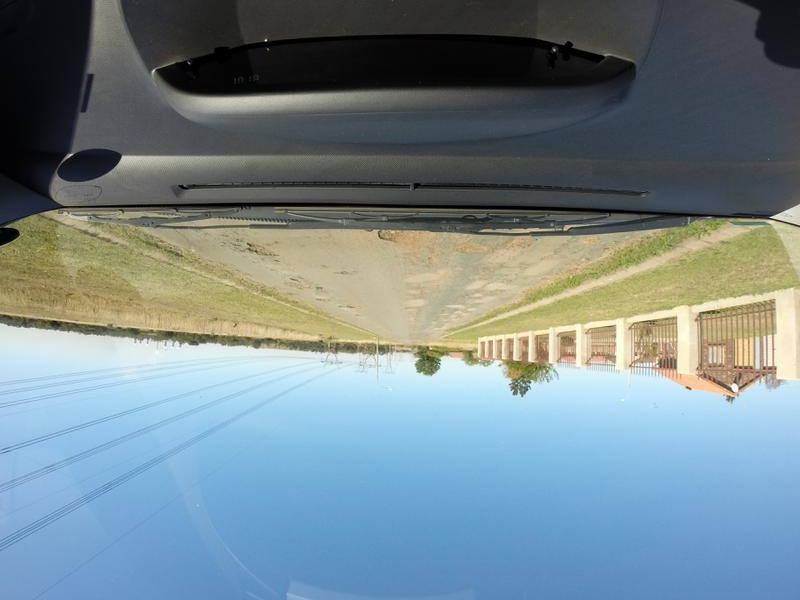pothole: (375, 228, 447, 253), (456, 239, 500, 271), (238, 236, 286, 264), (335, 262, 361, 282)
